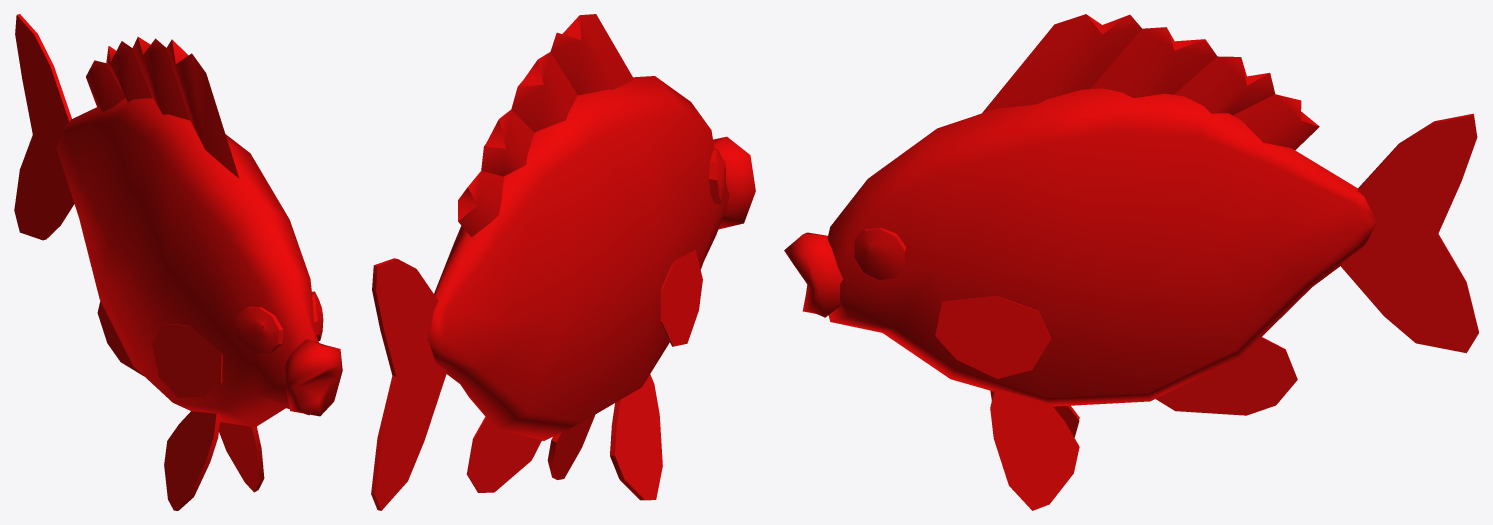
3 renders of one model, left to right at view 1: azimuth 30°, elevation 25°; view 2: azimuth 150°, elevation 25°; view 3: azimuth 270°, elevation 25°, orthographic. The views are drawn at different scales.
Parts seen in each view (by area): view 1: Fish_CrucianCarp; view 2: Fish_CrucianCarp; view 3: Fish_CrucianCarp.
Boxes of the visible parts, x1,y1,x2,y2 form: Fish_CrucianCarp: (14, 14, 342, 510); Fish_CrucianCarp: (371, 14, 755, 510); Fish_CrucianCarp: (784, 14, 1478, 510).
Bounding box in the file's own units: 0.1191 × 0.4123 × 0.5459.
